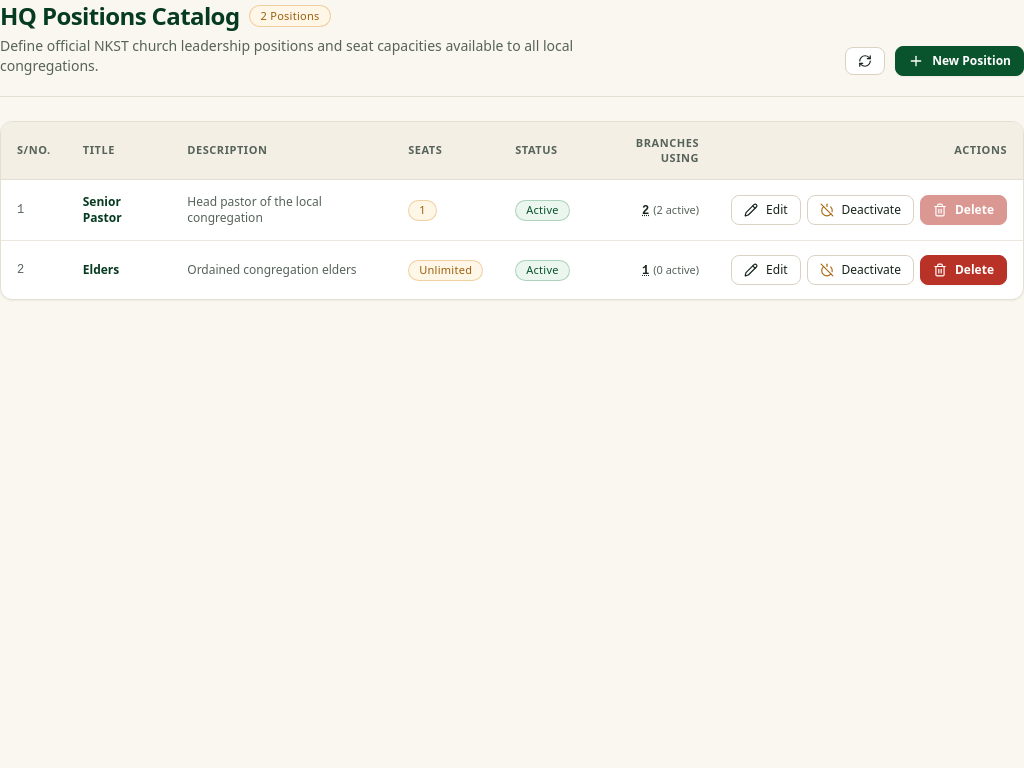
Test: Integration: HQ Positions Catalog UI › shows deactivation warning copy before calling deactivate endpoint
Later steps or results of the test are not shown.
Check: the text "Senior Pastor" is shown, box [67,180,171,241]
Step 1. Click the button "Deactivate" in the row of "Senior Pastor" → (860, 210), box [807,195,914,225]
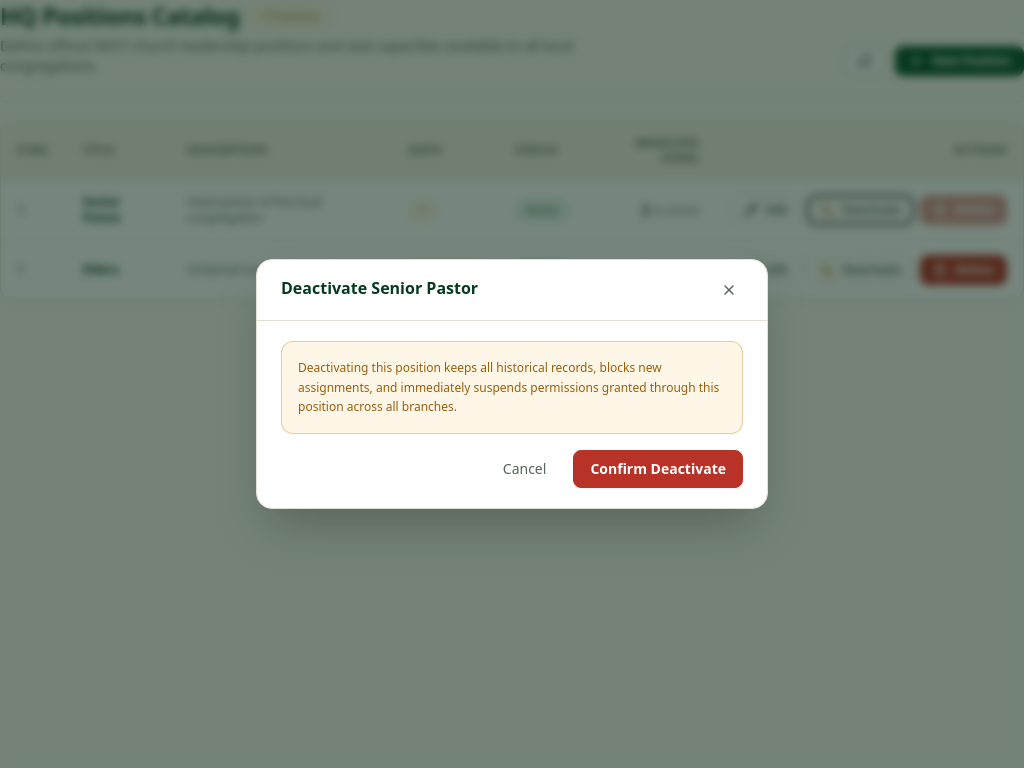
Check: the text "immediately suspends permissions granted through this position across all branches" is shown, box [298,359,719,415]
